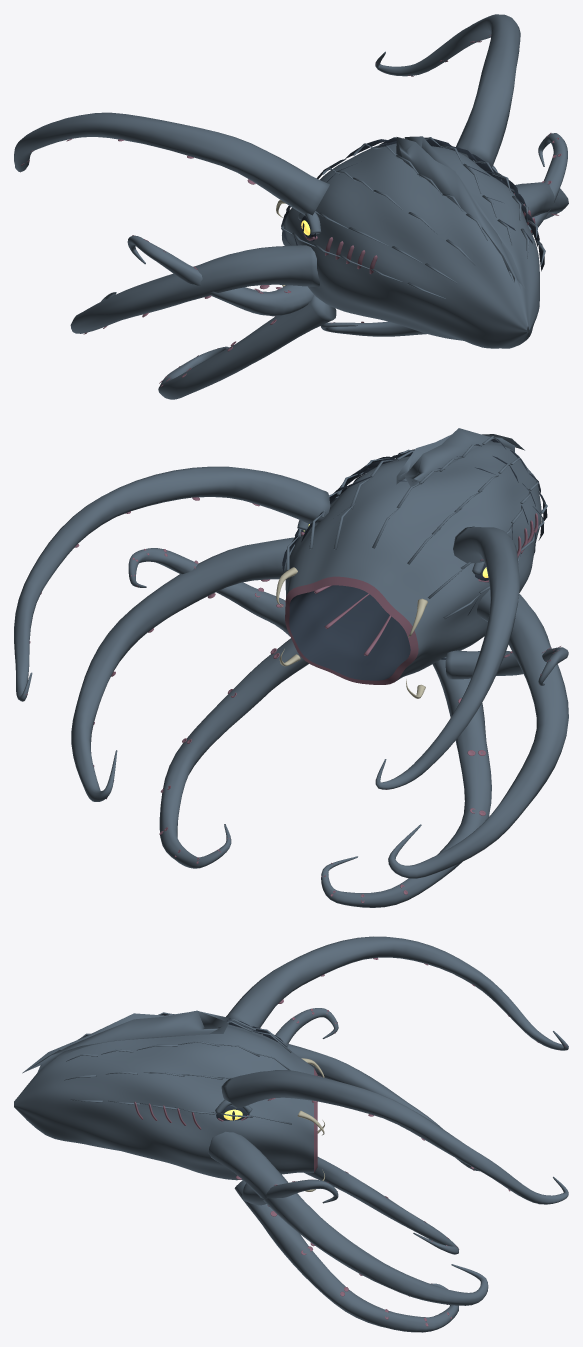
Rendered from Nereid_BowCreature.fbx.
3 renders of one model, top to bottom at view 1: azimuth 30°, elevation 25°; view 2: azimuth 150°, elevation 25°; view 3: azimuth 270°, elevation 25°, orthographic. The views are drawn at different scales.
Parts seen in each view (by area): view 1: Nereid_CreatureSkin, Nereid_CreatureDark, Nereid_CreatureGill; view 2: Nereid_CreatureSkin, Nereid_CreatureDark, Nereid_CreatureGill, Nereid_CreatureIvory; view 3: Nereid_CreatureSkin, Nereid_CreatureGill.
Part boxes in pixels (x1,y1,x2,y2): Nereid_CreatureSkin: [14, 14, 568, 399]; Nereid_CreatureDark: [281, 52, 544, 271]; Nereid_CreatureGill: [20, 35, 561, 387]; Nereid_CreatureSkin: [14, 428, 568, 907]; Nereid_CreatureDark: [282, 438, 547, 680]; Nereid_CreatureGill: [25, 497, 560, 903]; Nereid_CreatureIvory: [276, 567, 427, 698]; Nereid_CreatureSkin: [14, 936, 568, 1332]; Nereid_CreatureGill: [134, 958, 566, 1326].
Bounding box in the file's own units: 35.34 × 24.11 × 43.74.
